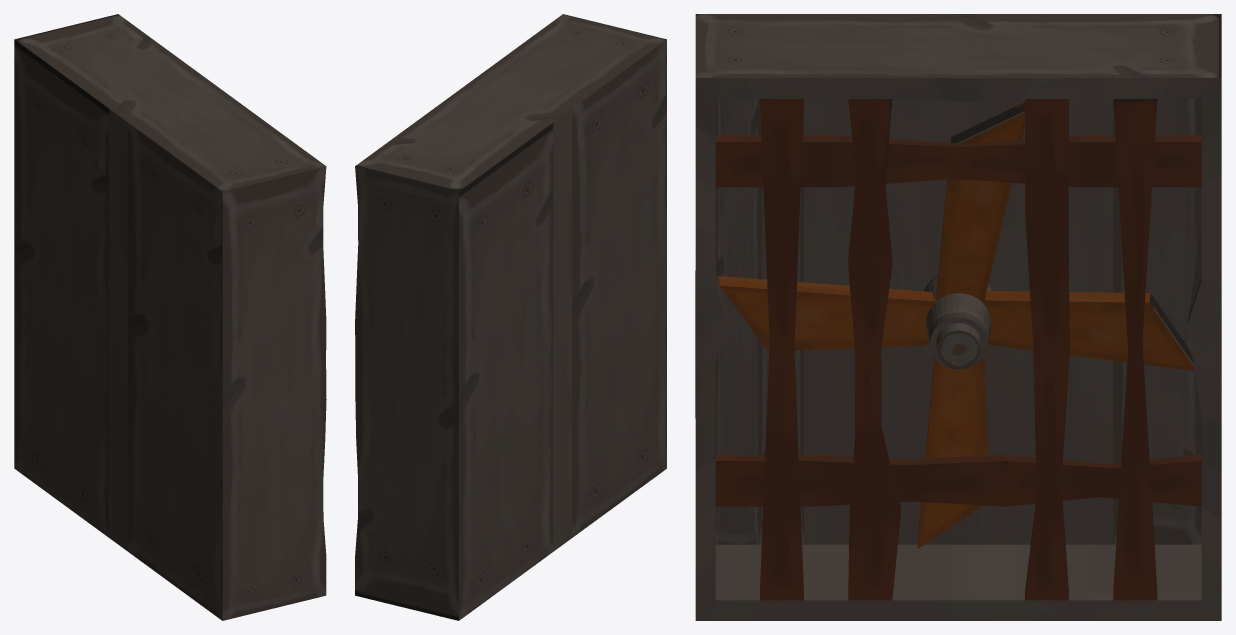
File: fan.fbx
3 views of the same model, side by side, from view 1: azimuth 30°, elevation 25°; view 2: azimuth 150°, elevation 25°; view 3: azimuth 270°, elevation 25° (orthographic). The views are drawn at different scales.
Visible parts, largest first — view 1: Cube; view 2: Cube; view 3: Cube, Blade.003, Blade.001, Blade, Blade.002, Cylinder.
Boxes of the visible parts, x1,y1,x2,y2 form: Cube: (14,14,326,620); Cube: (355,14,666,620); Cube: (695,14,1221,620); Blade.003: (982,291,1194,370); Blade.001: (718,276,935,351); Blade: (936,102,1024,301); Blade.002: (917,355,987,548); Cylinder: (924,274,992,369).
Size of the model in its own units: 202 by 790 by 694.
3 materials, 3 textured.
